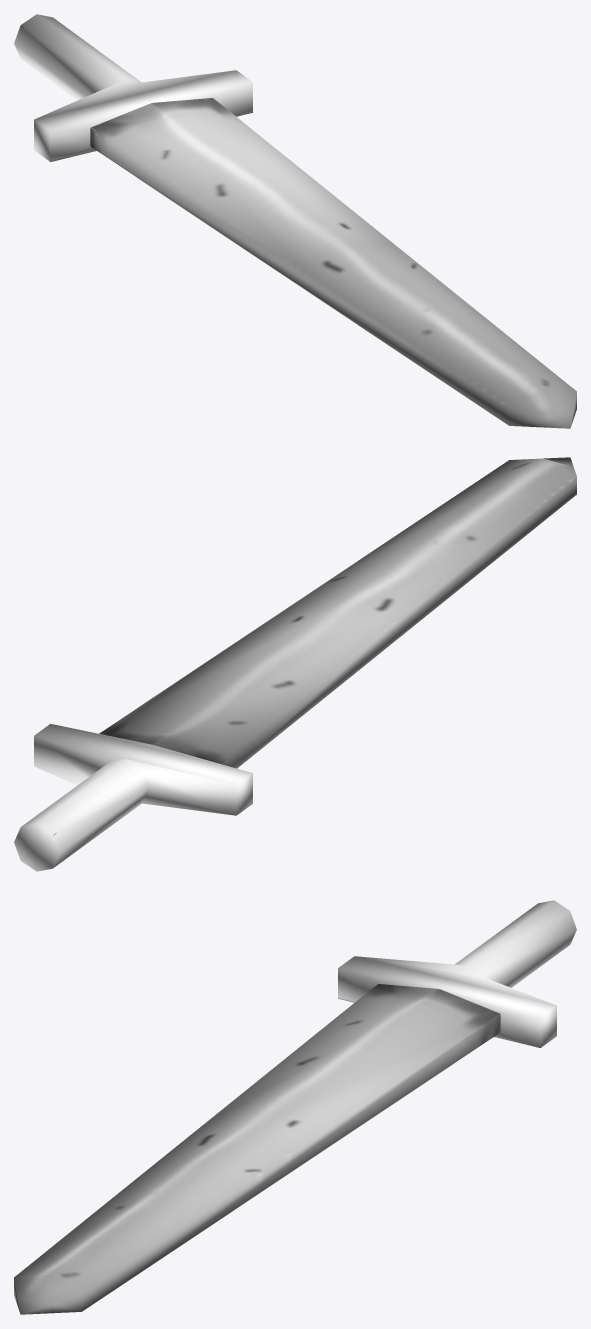
File: Sword.obj
3 views of the same model, one above another, from view 1: azimuth 30°, elevation 25°; view 2: azimuth 150°, elevation 25°; view 3: azimuth 330°, elevation 25° (orthographic).
Visible parts, largest first — view 1: Plane; view 2: Plane; view 3: Plane.
Part boxes in pixels (<box>): Plane: <box>14,14,576,428</box>; Plane: <box>14,457,576,871</box>; Plane: <box>14,900,576,1314</box>.
Size of the model in its own units: 1.86 by 0.4175 by 8.48.
